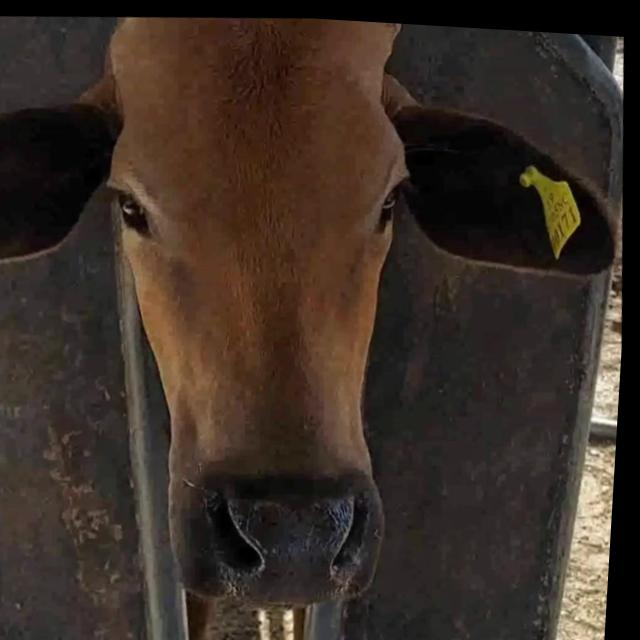cowFace: (89, 5, 440, 612)
